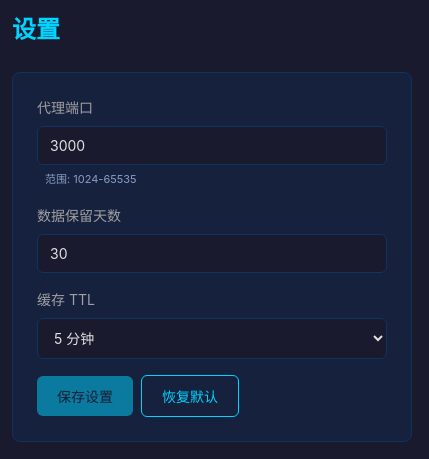
Test: Settings › 端口 <1024 显示错误
Replace the text in the number field named "代理端口号" with "80" at point(212, 146), box x1=37 y1=126 x2=387 y2=165
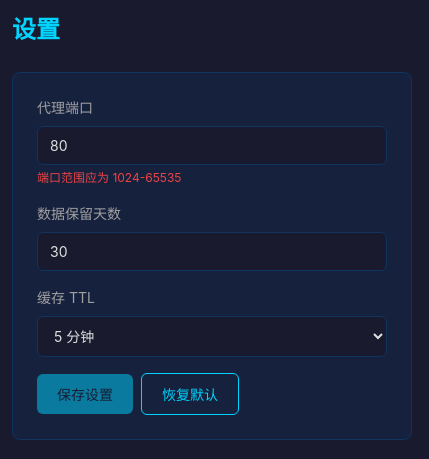
Expected: the text "端口范围应为 1024-65535" is shown, x1=37 y1=170 x2=182 y2=185
